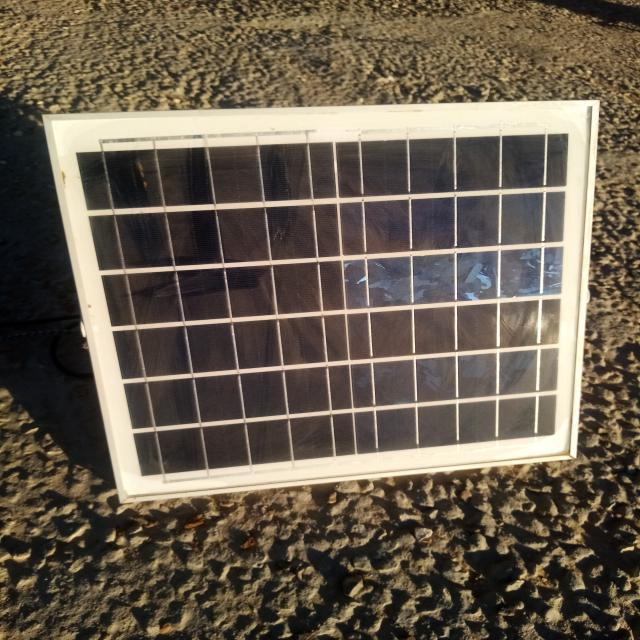faulty: (49, 105, 601, 503)
